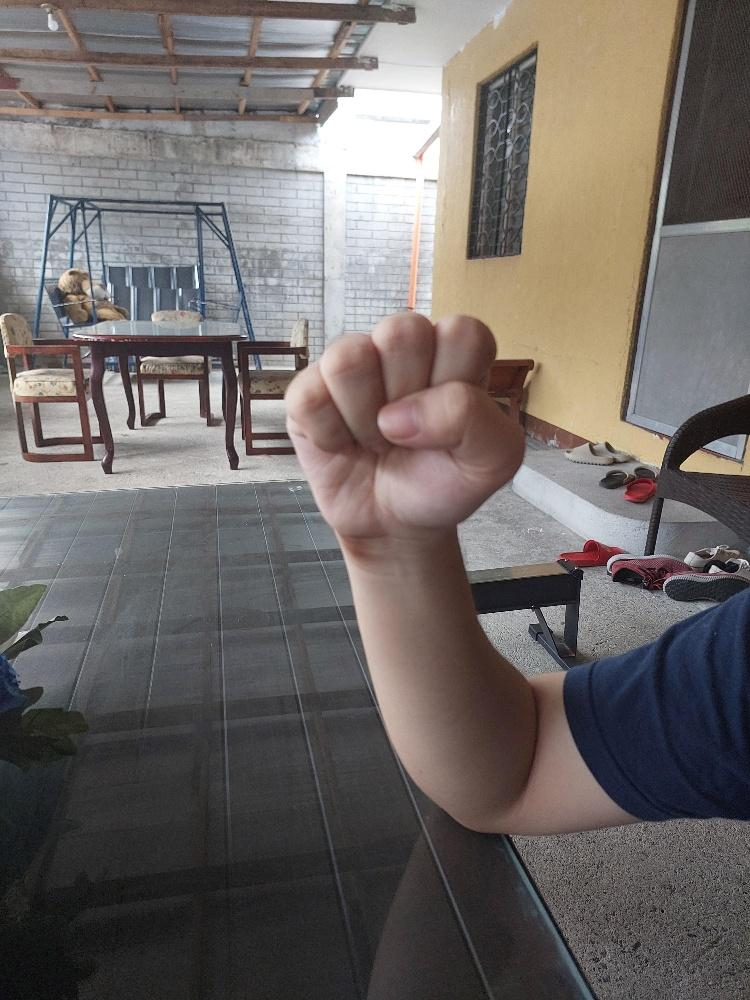s: (279, 304, 531, 552)
